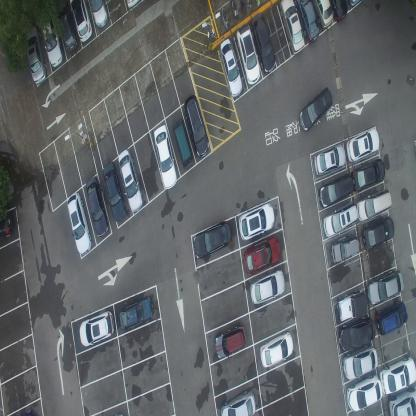car: (182, 93, 210, 158), (118, 148, 144, 214), (298, 84, 333, 132), (66, 192, 92, 256), (250, 12, 276, 74), (192, 220, 232, 260), (154, 124, 178, 190), (236, 24, 261, 86), (243, 235, 280, 276), (85, 176, 109, 238), (102, 161, 126, 221), (79, 308, 115, 348), (239, 202, 275, 242), (279, 0, 305, 55), (24, 24, 47, 86), (219, 36, 242, 98), (249, 268, 286, 306), (346, 374, 383, 412), (380, 355, 416, 394), (367, 268, 404, 305), (259, 330, 294, 369), (339, 315, 375, 352), (39, 13, 63, 68), (318, 172, 354, 208), (345, 127, 380, 164), (118, 295, 154, 330), (356, 187, 392, 222), (293, 0, 321, 44), (55, 0, 78, 53), (171, 118, 194, 170), (352, 157, 386, 192), (323, 204, 358, 238), (214, 323, 247, 359), (312, 142, 346, 176), (344, 346, 378, 380), (362, 215, 394, 251), (375, 300, 406, 336), (68, 0, 93, 44), (337, 290, 368, 322), (220, 388, 256, 415), (330, 234, 360, 264), (388, 388, 415, 415), (86, 0, 108, 28), (312, 0, 333, 29), (0, 210, 14, 240), (329, 0, 348, 21)
